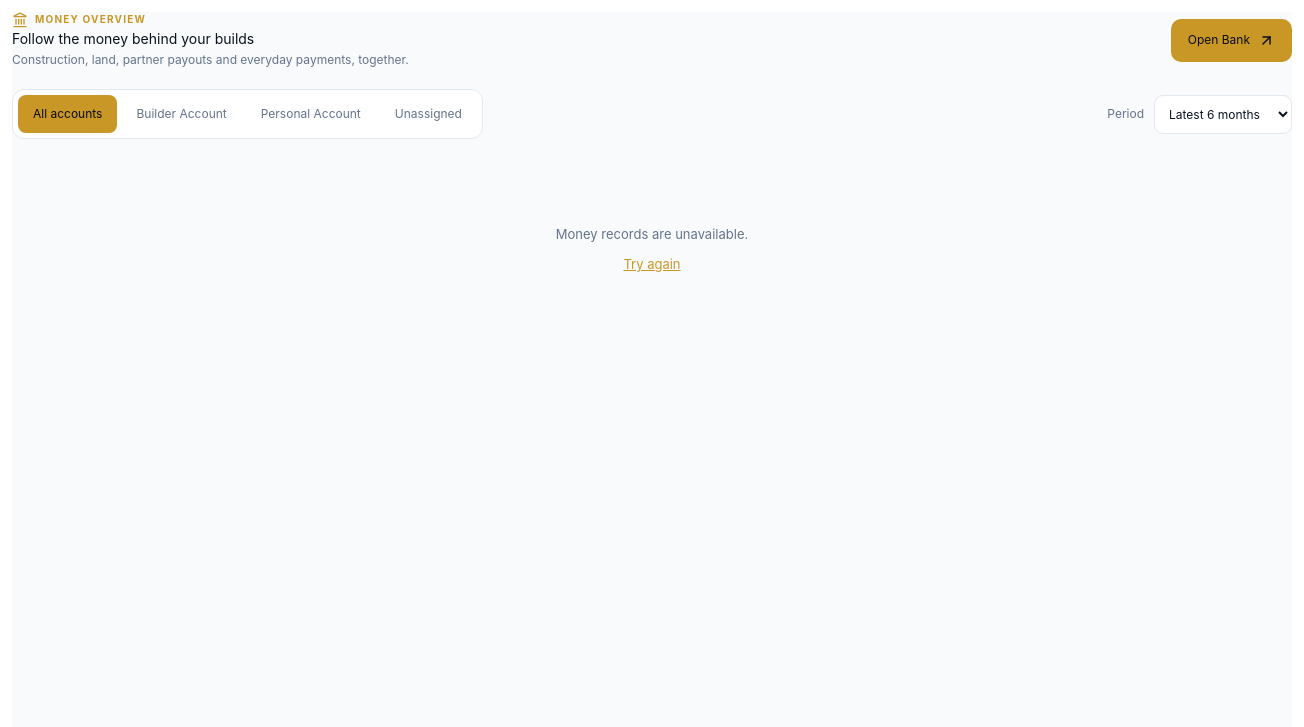
Test case: Dashboard money › offers retry instead of displaying zeros after loading fails
The image size is (1304, 727).
Expected: the message shows "Money records are unavailable", [556,226,748,242]
Expected: the text "Money received" is not shown
Click the button "Try again" at (652, 265), box [623,254,680,275]
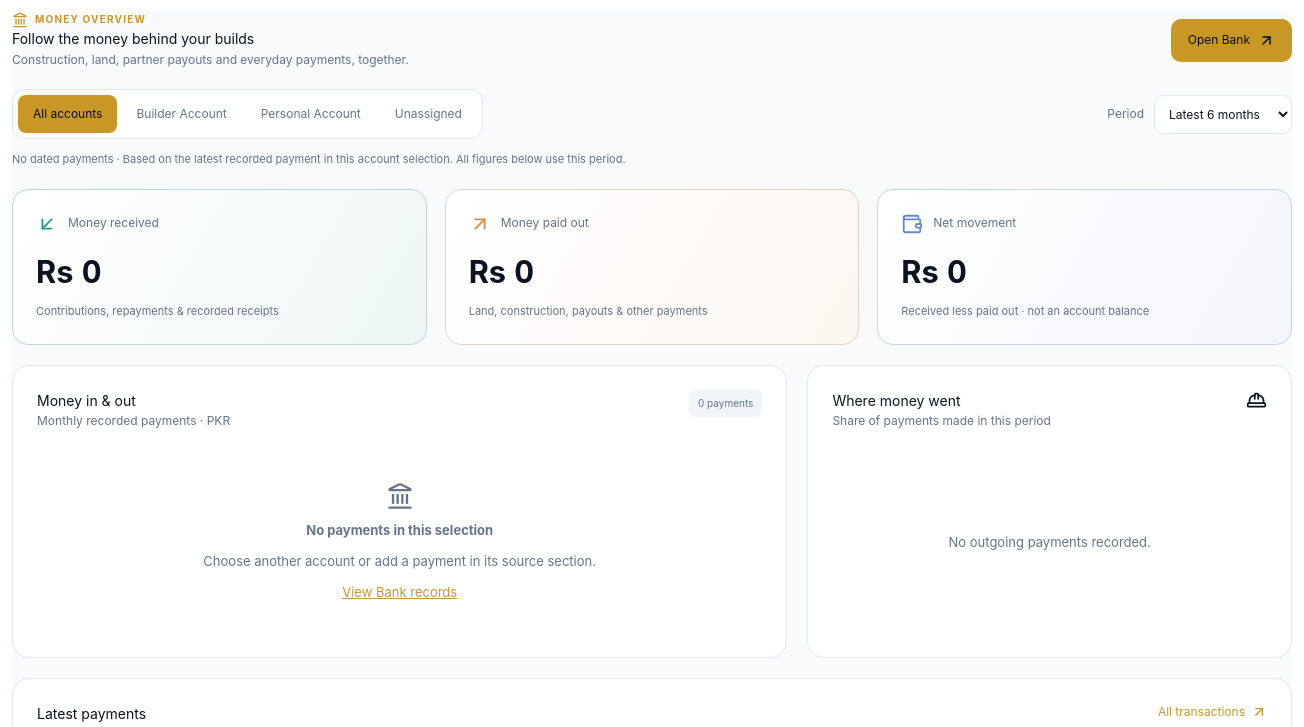
Result: the text "No payments in this selection" is shown at [306,520,493,541]
